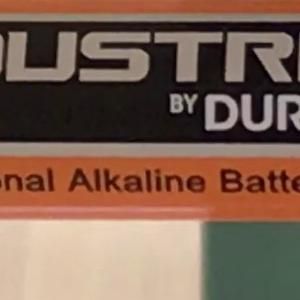ALK: (59, 159, 111, 202)
